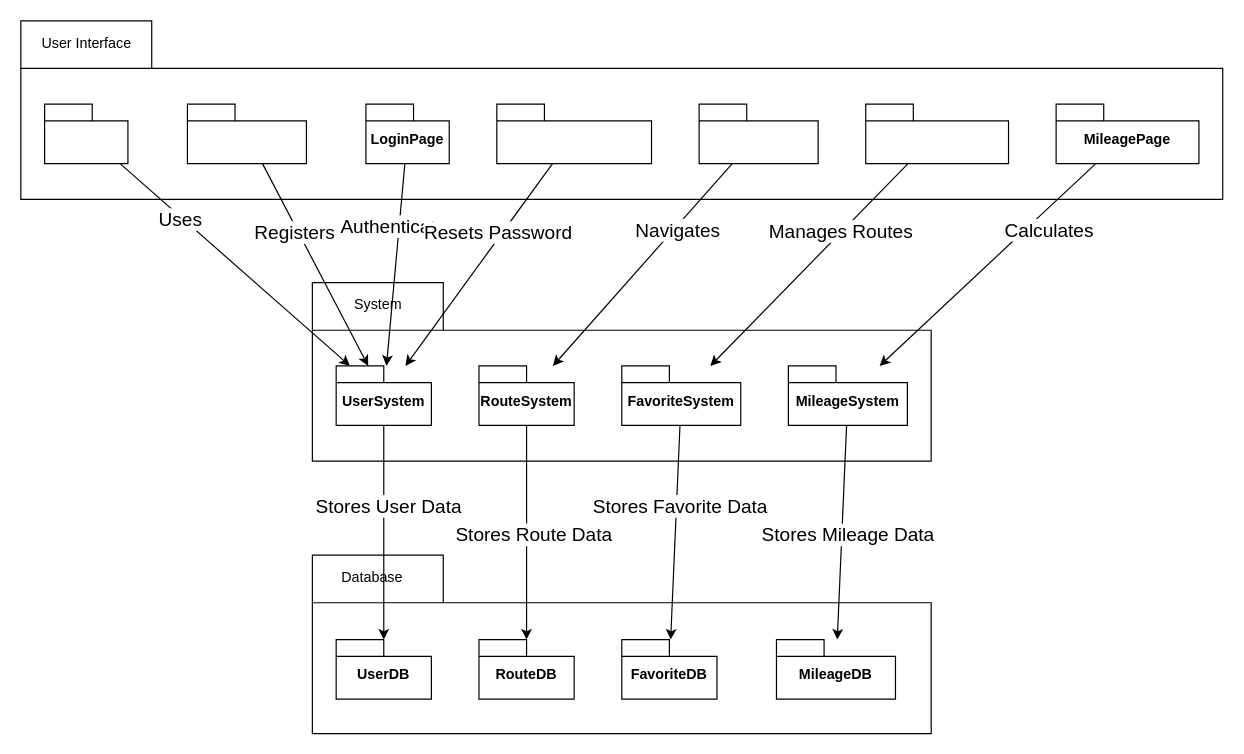
Some shapes in this 1244 by 754 pixel diagram are drawn without their labels. The centre of each missing label's shape, as x and y in pixels:
"FavoriteRotuePage" belongs at (x=937, y=133).
"ForgotPasswordPage" belongs at (x=574, y=133).
"NavigationPage" belongs at (x=758, y=133).
"RegisterPage" belongs at (x=246, y=133).
"UserUI" belongs at (x=85, y=133).
